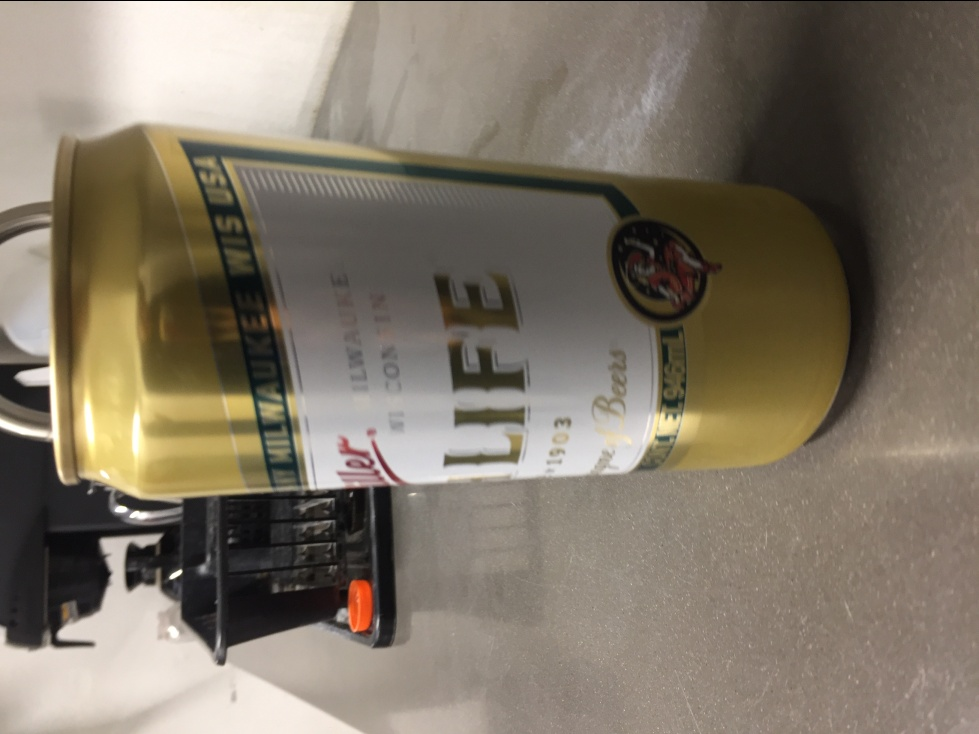miller: (45, 121, 850, 501)
